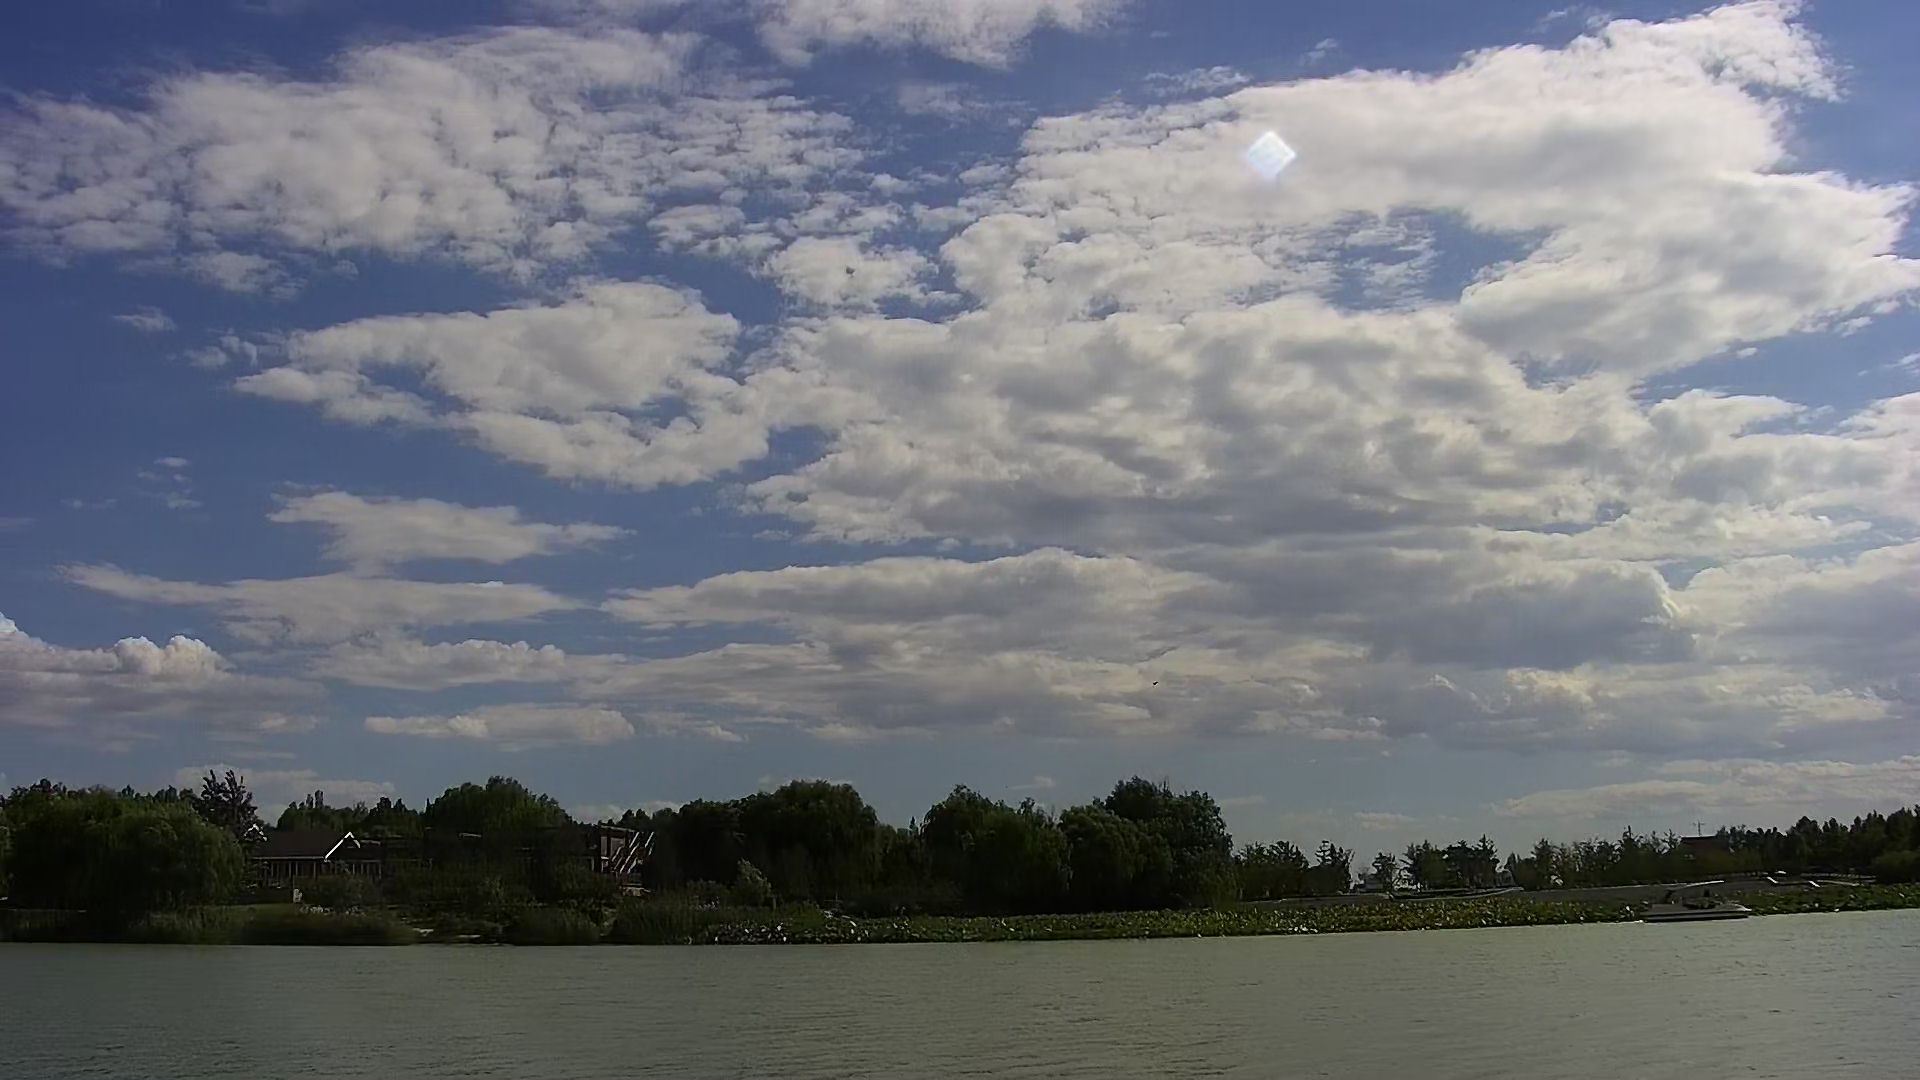boat: (1646, 874, 1760, 928)
